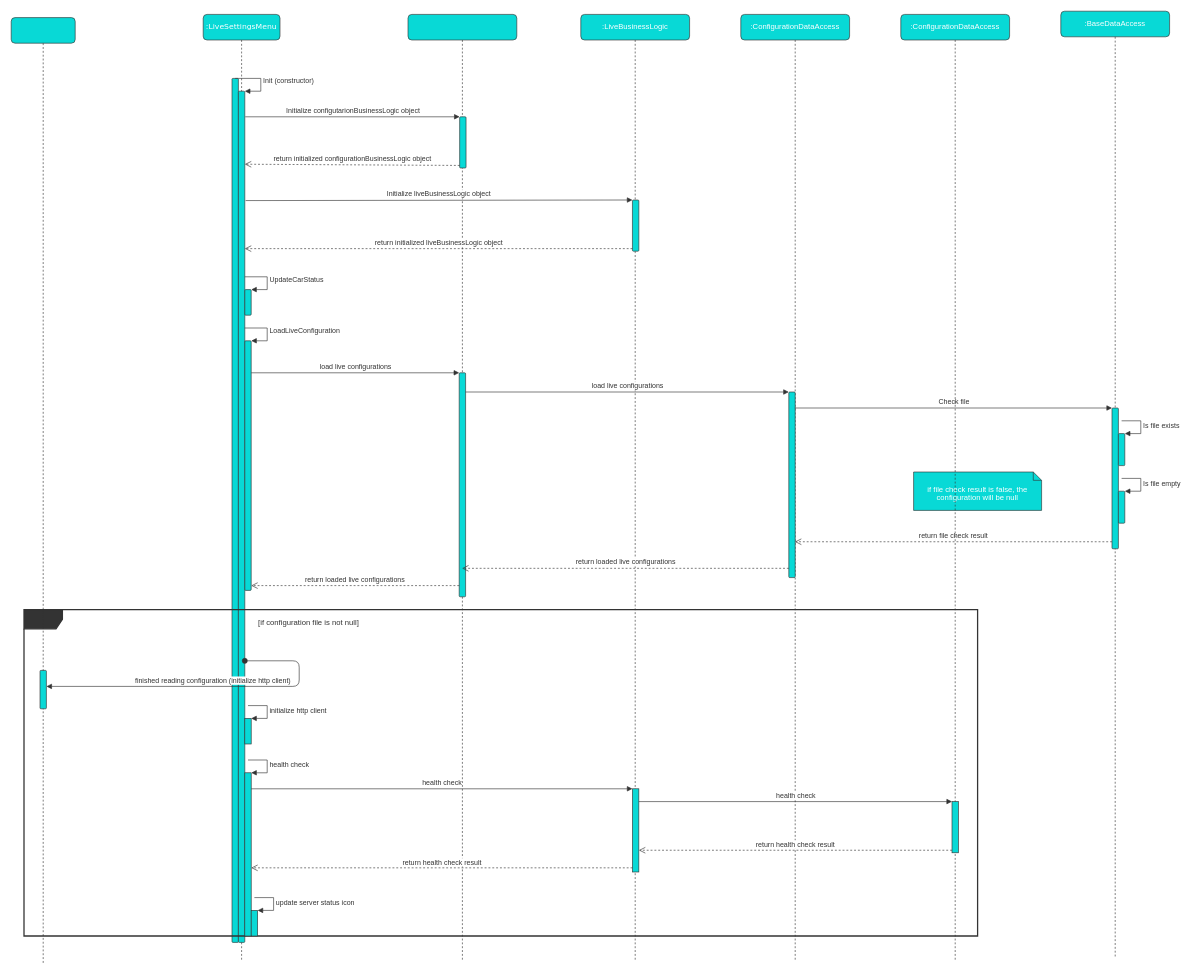
Some shapes in this 1192 by 976 pixel diagram are drawn without their labels. Here are the shapes that lost their labels. From the top down, the box of each, then its label:
(11, 17, 75, 965): :LiveMenu
(407, 14, 517, 962): :ConfigurationBusinessLogic
(23, 609, 978, 936): alt
